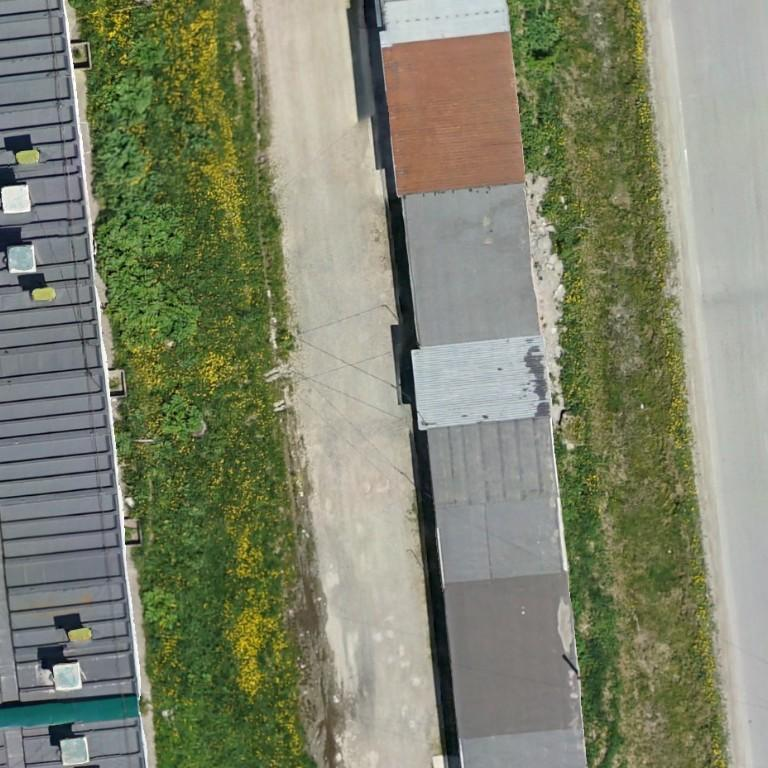hogweed: (95, 186, 200, 347), (94, 132, 145, 180), (108, 75, 151, 127), (162, 394, 202, 441), (141, 587, 176, 623), (131, 38, 165, 66)
